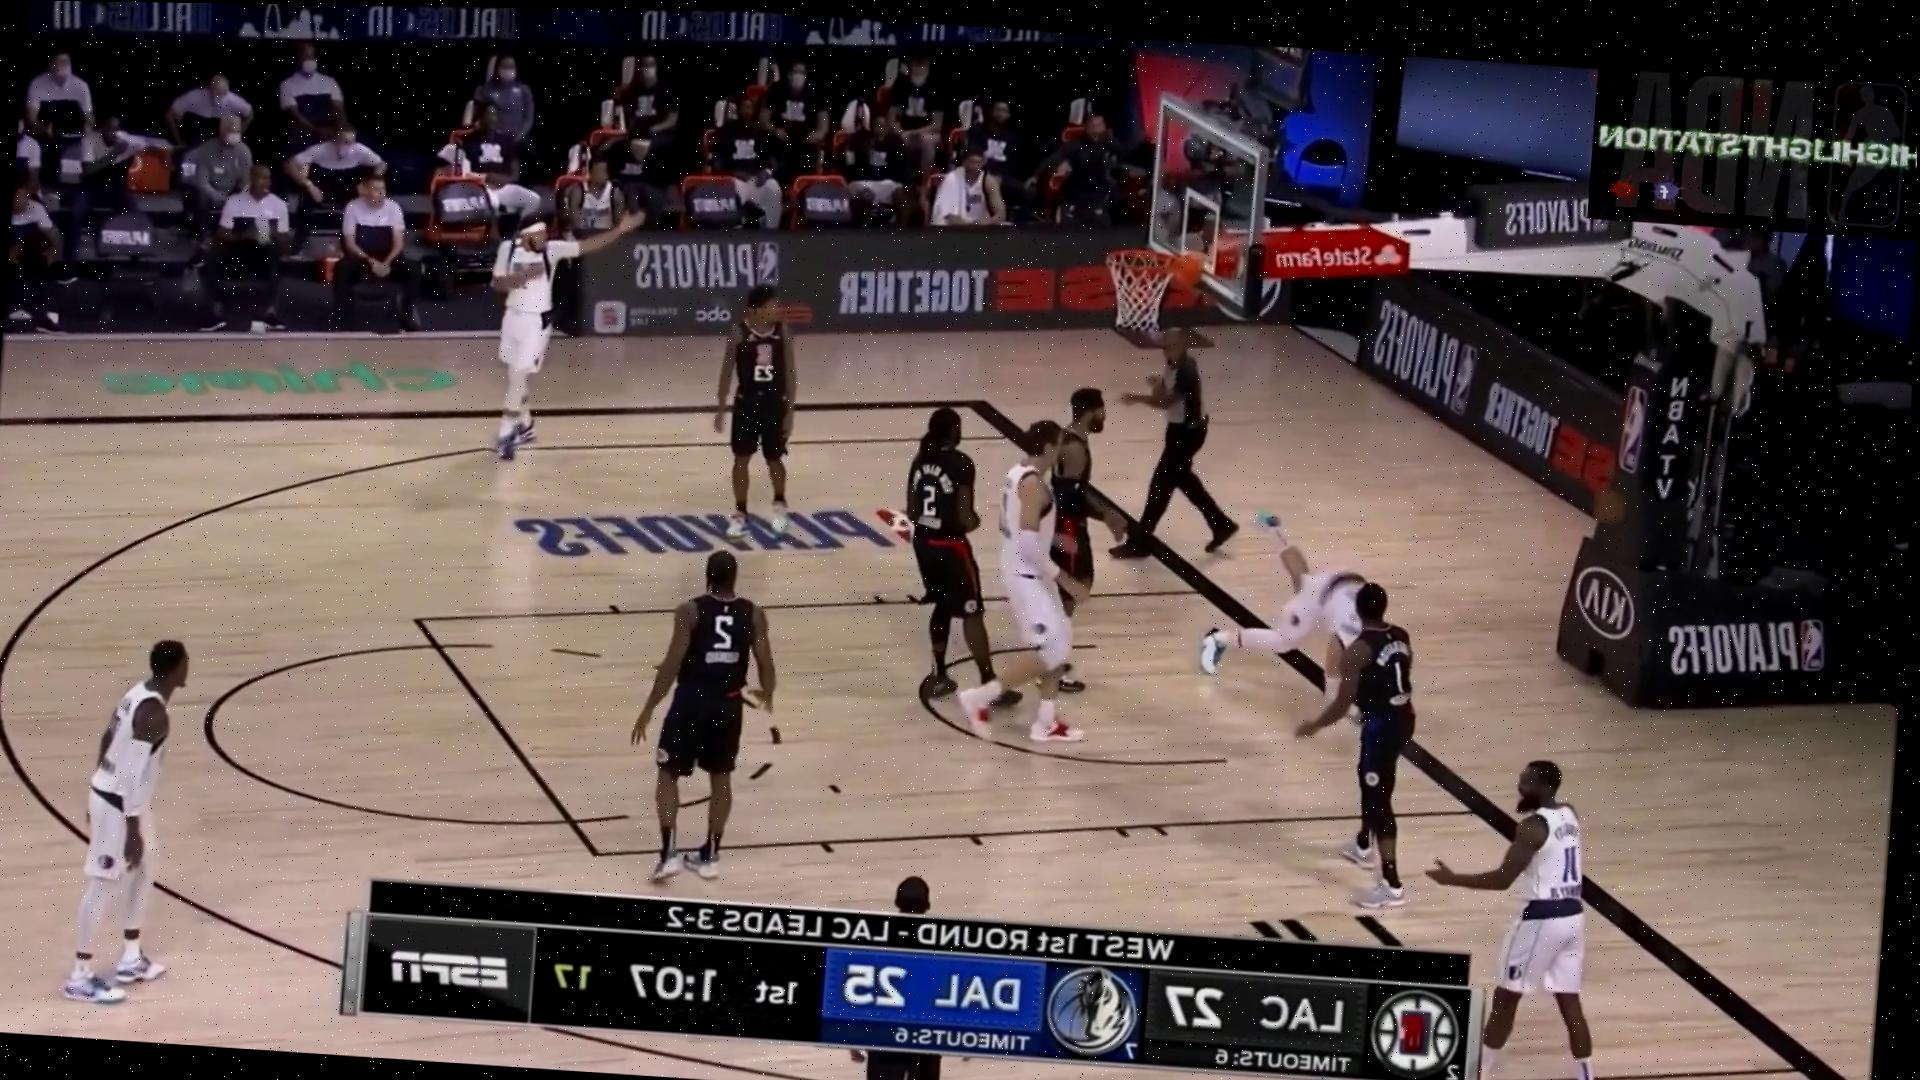no_foul: (853, 388, 1116, 745)
